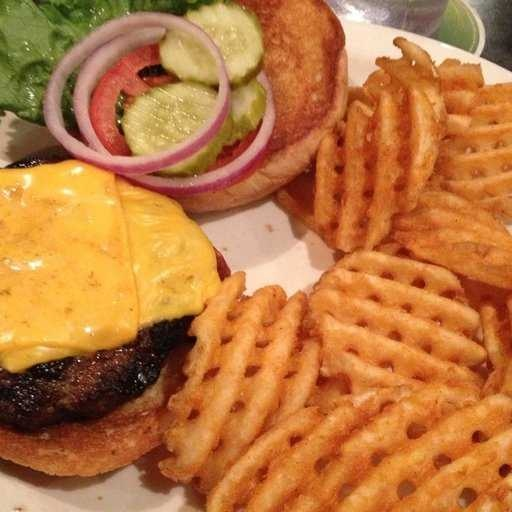hamburger: (1, 159, 238, 471)
